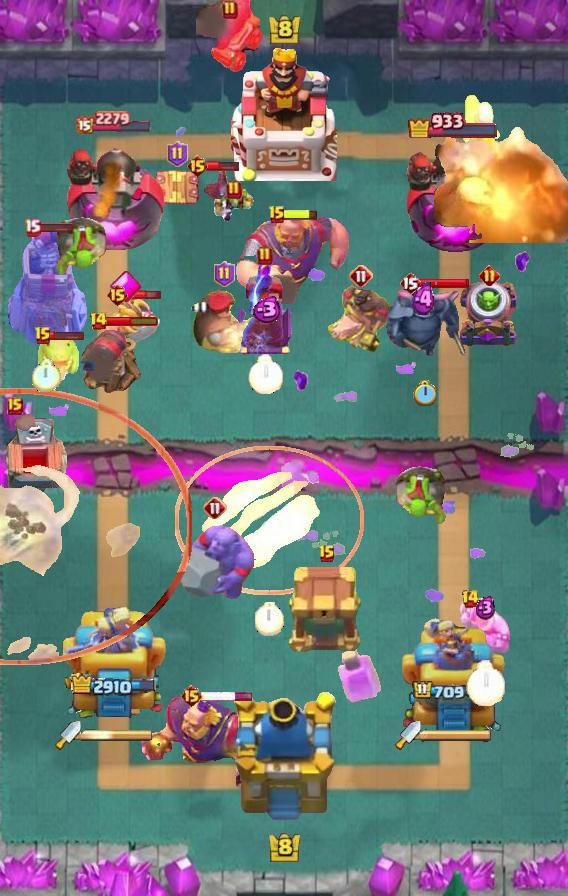archer-queen: (176, 522, 254, 602)
bar: (60, 607, 168, 731), (402, 615, 507, 731)
bar-level: (53, 216, 107, 278), (395, 465, 449, 527)
barbarian-barrel: (198, 168, 230, 204)
bomb: (288, 566, 366, 654)
electro-spirit: (249, 296, 283, 323), (411, 282, 437, 317), (476, 595, 497, 620)
electro-wizard: (35, 332, 81, 384)
elixir: (467, 660, 506, 706), (248, 354, 284, 394), (256, 602, 284, 636), (32, 360, 60, 392), (413, 380, 436, 406)
elixir-golem-mid: (0, 417, 70, 503)
emote: (105, 315, 158, 327), (418, 277, 470, 289), (201, 691, 254, 702), (126, 287, 162, 301), (283, 207, 319, 220), (38, 221, 74, 233), (50, 330, 85, 342), (205, 160, 239, 172)
freeze: (326, 280, 396, 354)
goblin-brawler: (153, 166, 201, 210)
goblin-cage: (457, 279, 521, 349)
goblin-giant: (103, 295, 161, 355), (458, 598, 512, 656)
golemite: (382, 288, 466, 362)
ice-spirit-evolution-symbol: (235, 260, 295, 356)
ice-wizard: (176, 445, 364, 595)
king-tower: (227, 692, 341, 826), (231, 45, 337, 181)
king-tower-bar: (421, 728, 493, 742), (81, 728, 153, 742)
knight-evolution: (338, 647, 382, 704)
lightning: (138, 696, 273, 796), (234, 214, 352, 304)
phoenix-small: (187, 289, 261, 353)
royal-ghost: (0, 388, 192, 665)
royal-giant-evolution: (196, 0, 264, 74), (76, 326, 144, 396)
selected: (408, 110, 501, 139), (70, 673, 157, 699), (75, 110, 153, 134), (412, 680, 494, 702)
skeleton-king-skill: (110, 270, 142, 304)
text: (349, 264, 373, 288), (203, 496, 227, 520), (187, 154, 210, 178), (106, 283, 129, 307), (180, 684, 203, 708), (167, 141, 188, 167), (213, 261, 234, 287), (399, 271, 421, 295), (479, 266, 501, 287), (88, 311, 107, 331), (461, 589, 480, 609), (268, 205, 286, 225), (34, 326, 52, 346), (318, 544, 336, 564), (23, 218, 41, 237), (222, 0, 238, 20), (226, 180, 242, 200), (257, 246, 273, 266), (7, 397, 23, 415)
tombstone: (461, 92, 503, 150)
tower-bar: (401, 138, 505, 256), (63, 138, 164, 256)
valkyrie: (434, 115, 568, 243)
zap: (213, 188, 255, 224)
zappy: (4, 226, 89, 348)
